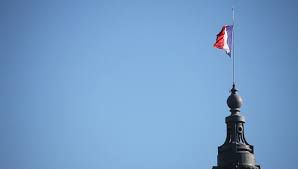French Flag: (215, 25, 232, 56)
